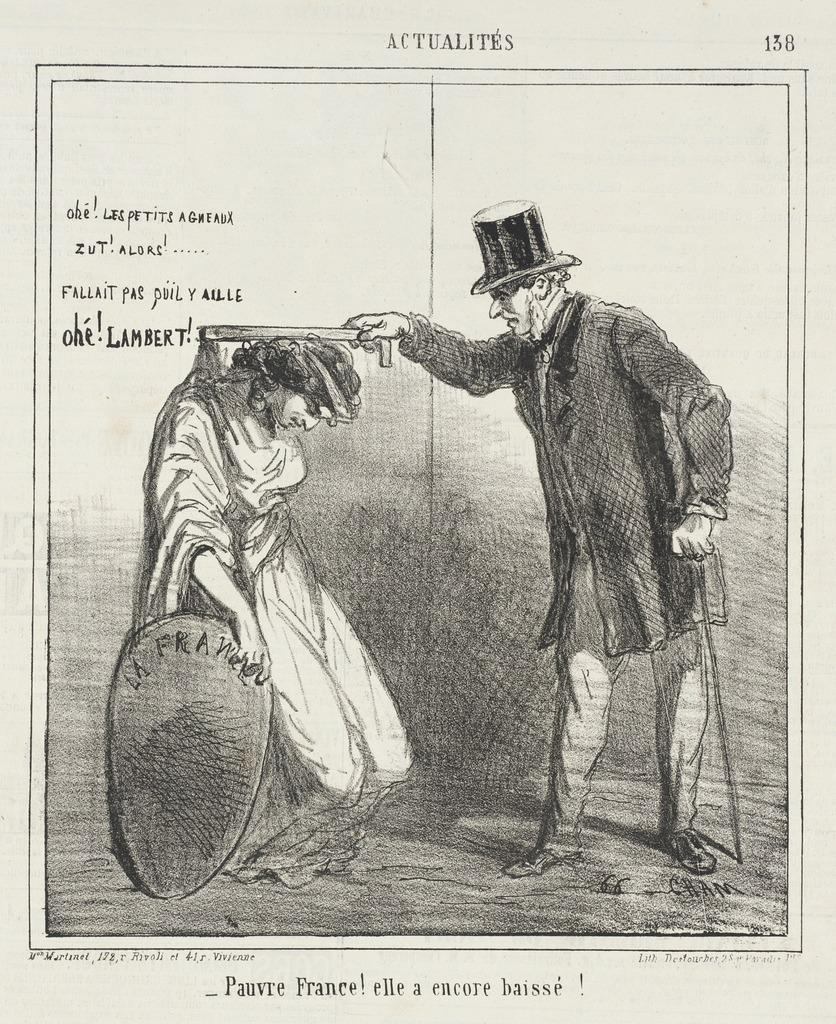Hat: (468, 199, 580, 295)
